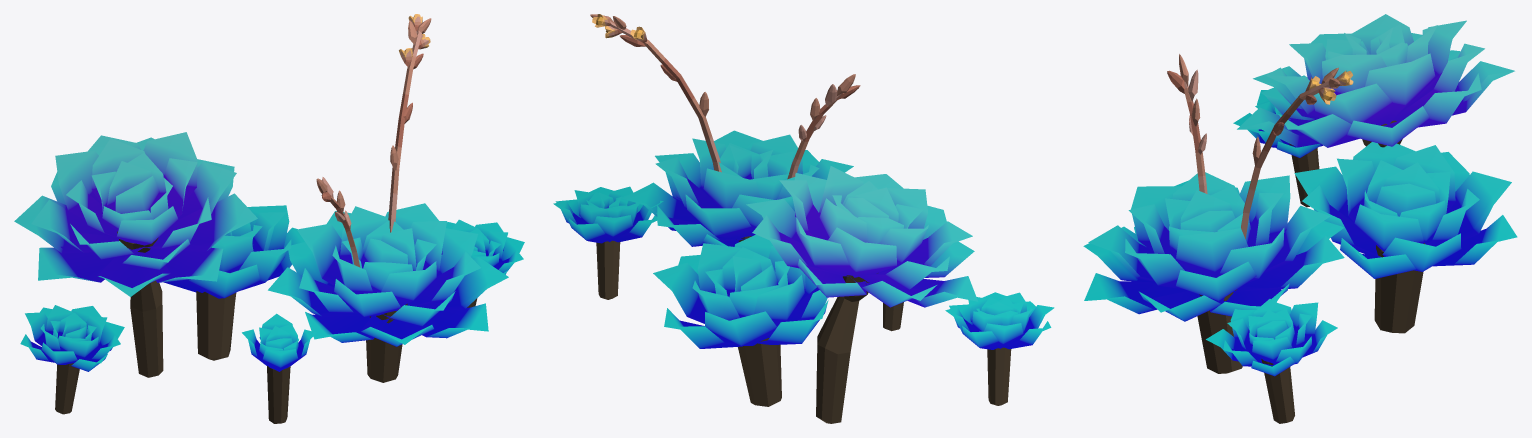
Rendered from SM_Env_Succulent_01_Alt_01.fbx.
3 views of the same model, side by side, from view 1: azimuth 30°, elevation 25°; view 2: azimuth 150°, elevation 25°; view 3: azimuth 270°, elevation 25° (orthographic). The views are drawn at different scales.
Parts seen in each view (by area): view 1: SM_Env_Succulent_01_Alt_01_LOD0; view 2: SM_Env_Succulent_01_Alt_01_LOD0; view 3: SM_Env_Succulent_01_Alt_01_LOD0.
Part boxes in pixels (box(x1,y1,x2,y2)): SM_Env_Succulent_01_Alt_01_LOD0: box(14, 14, 524, 423); SM_Env_Succulent_01_Alt_01_LOD0: box(553, 14, 1054, 423); SM_Env_Succulent_01_Alt_01_LOD0: box(1083, 14, 1517, 423).
Size of what is drawn, in the model's own units: 141 by 87.05 by 94.66.
